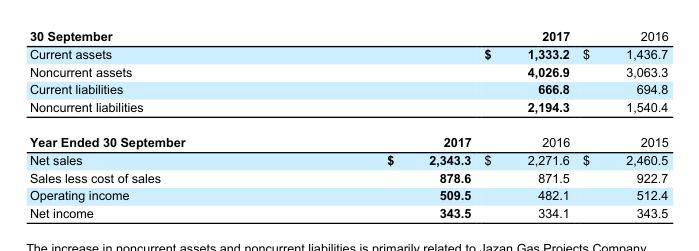table: (28, 28, 667, 219)
table column: (28, 28, 285, 219), (285, 28, 477, 219), (477, 28, 575, 219), (575, 28, 667, 219)
table column header: (28, 28, 667, 150)
table row: (28, 28, 667, 150), (28, 150, 667, 168), (28, 168, 667, 186), (28, 186, 667, 203), (28, 203, 667, 219)
